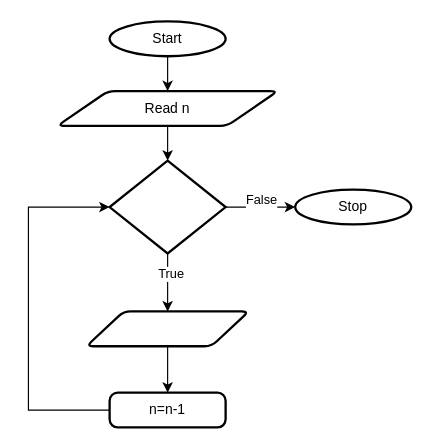
This 444x448 diagram has some shape labels left out. The centre of each missing label's shape, as x and y in pixels:
Print "*"*n: point 167,328
while n>0: point 167,206
